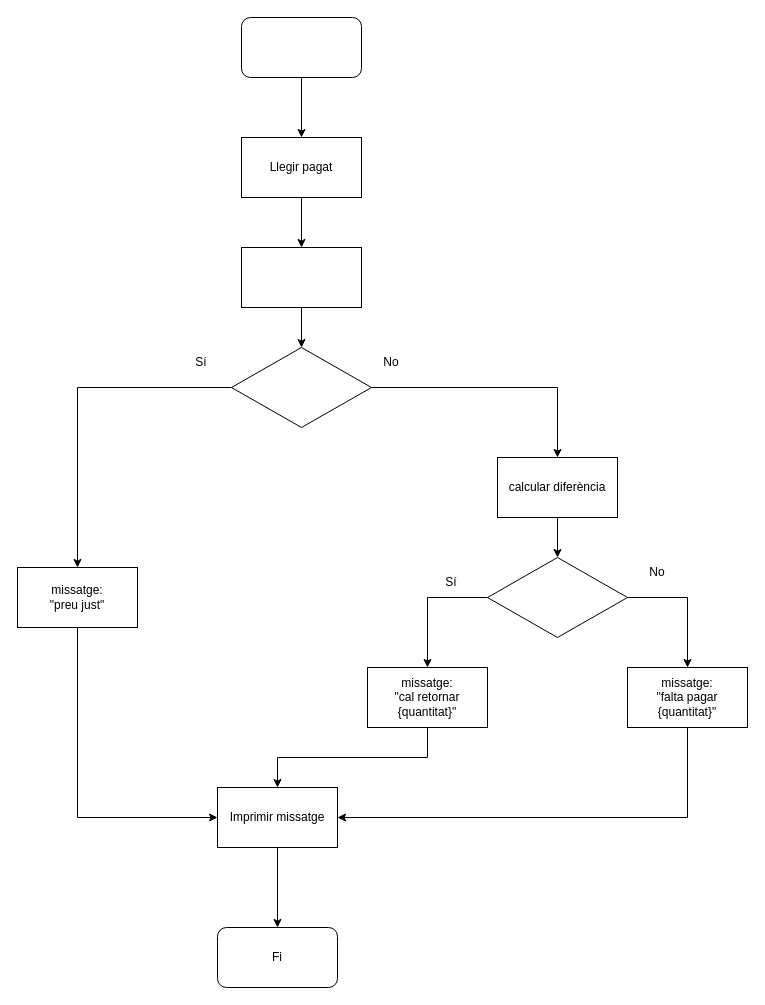
The diagram is 765 pixels wide and 1005 high, and some of its shapes have lost their labels. The shapes that lost their labels are listed below. From the top down, each one's box as (x1, y1, x2, y2) in pixels, then its label:
(240, 16, 362, 78): Inici
(240, 246, 362, 308): Llegir preu
(230, 346, 372, 428): pagat=preu?
(486, 556, 628, 638): pagat>preu?
